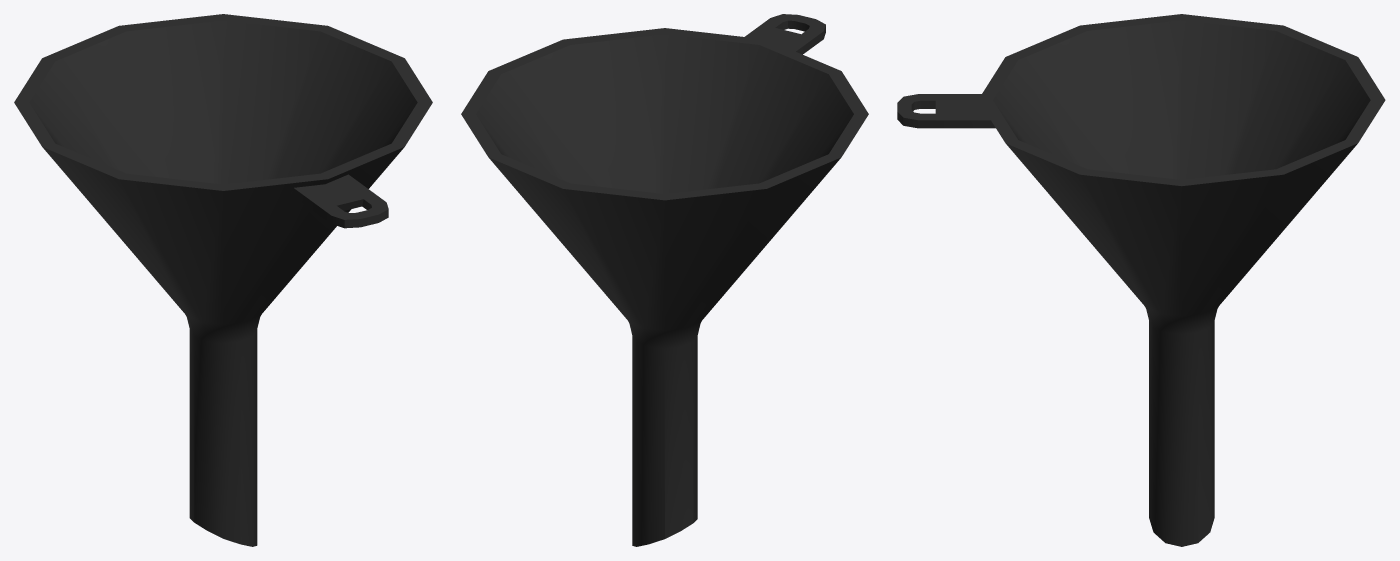
The model's file is Funnel_01.fbx.
The picture shows the model from 3 angles, left to right: view 1: azimuth 30°, elevation 25°; view 2: azimuth 150°, elevation 25°; view 3: azimuth 270°, elevation 25°; orthographic projection. The views are drawn at different scales.
Parts seen in each view (by area): view 1: Funnel_01; view 2: Funnel_01; view 3: Funnel_01.
Part boxes in pixels (box(x1,y1,x2,y2)): Funnel_01: box(14, 14, 432, 546); Funnel_01: box(461, 14, 868, 546); Funnel_01: box(897, 14, 1385, 546).
Bounding box in the file's own units: 0.1244 × 0.1459 × 0.1491.
